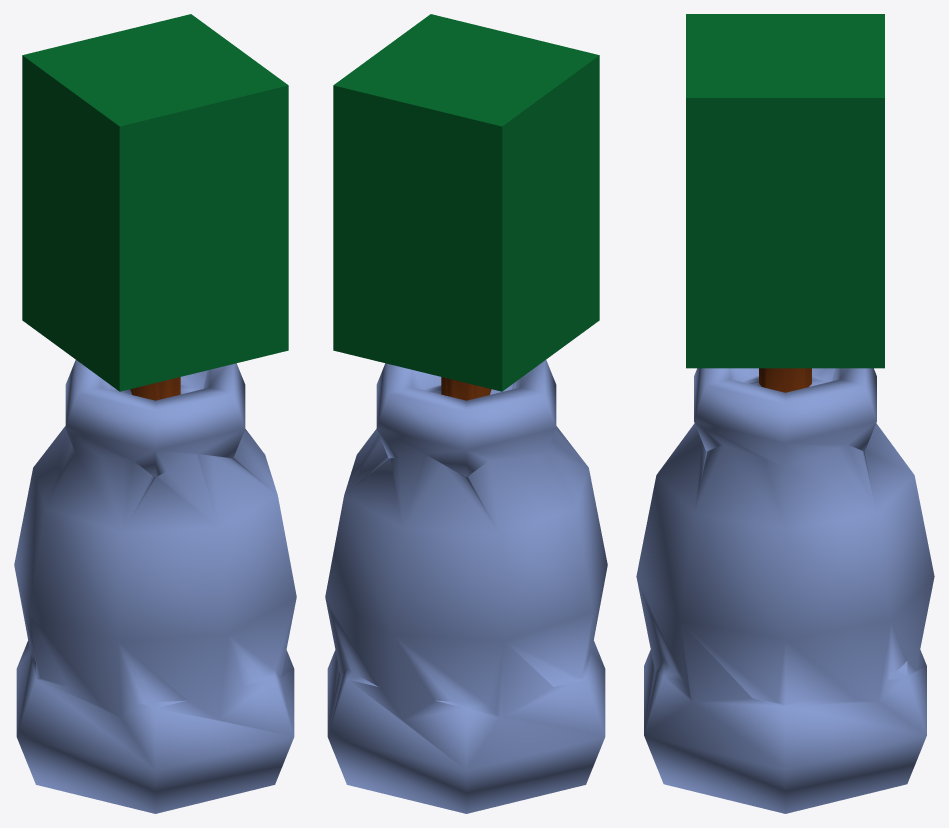
Rendered from plant.gltf.
3 renders of one model, left to right at view 1: azimuth 30°, elevation 25°; view 2: azimuth 150°, elevation 25°; view 3: azimuth 270°, elevation 25°, orthographic.
Parts seen in each view (by area): view 1: CSGCombiner3D2; view 2: CSGCombiner3D2; view 3: CSGCombiner3D2.
Boxes of the visible parts, box(x1,y1,x2,y2) form: CSGCombiner3D2: box(14, 14, 296, 813); CSGCombiner3D2: box(325, 14, 607, 813); CSGCombiner3D2: box(636, 14, 934, 813).
Size of the model in its own units: 0.987 by 2.41 by 0.9.
